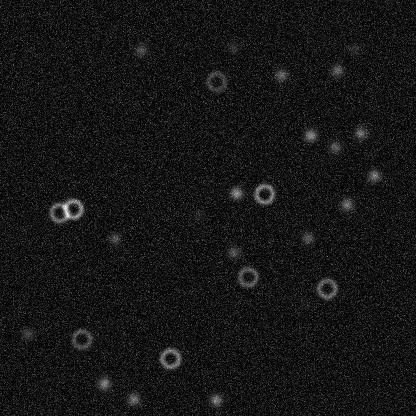Ring: (252, 181, 276, 205), (204, 69, 228, 93), (158, 346, 182, 370), (314, 276, 338, 300), (47, 200, 71, 224), (60, 196, 84, 220), (69, 327, 93, 351), (235, 264, 259, 288)
Spot: (189, 207, 205, 223), (326, 138, 342, 154), (346, 40, 362, 56), (273, 66, 289, 82), (338, 196, 354, 212), (106, 230, 122, 246), (329, 62, 345, 78), (125, 390, 141, 406), (297, 295, 313, 311), (96, 375, 112, 391), (132, 42, 148, 58), (207, 392, 223, 408), (224, 39, 240, 55), (228, 185, 244, 201), (352, 124, 368, 140), (366, 167, 382, 183), (299, 230, 315, 246), (225, 244, 241, 260), (302, 127, 318, 143), (19, 325, 35, 341)
